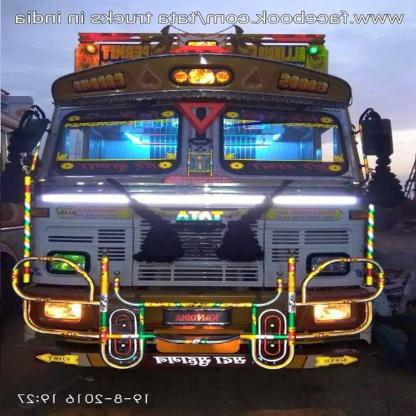truck: (3, 32, 381, 364)
